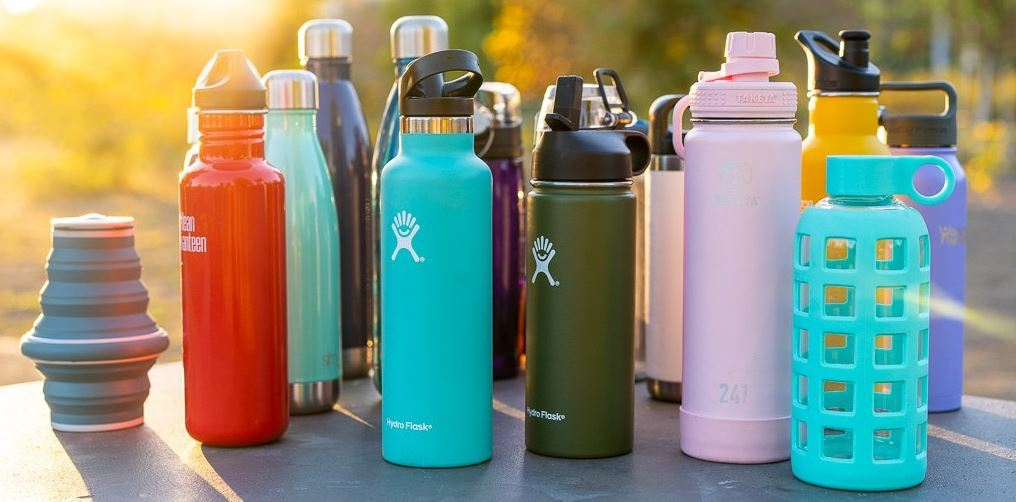bottle: (676, 13, 809, 473), (376, 49, 507, 484), (807, 136, 951, 490), (176, 44, 284, 466), (35, 201, 161, 446), (797, 4, 897, 154)
